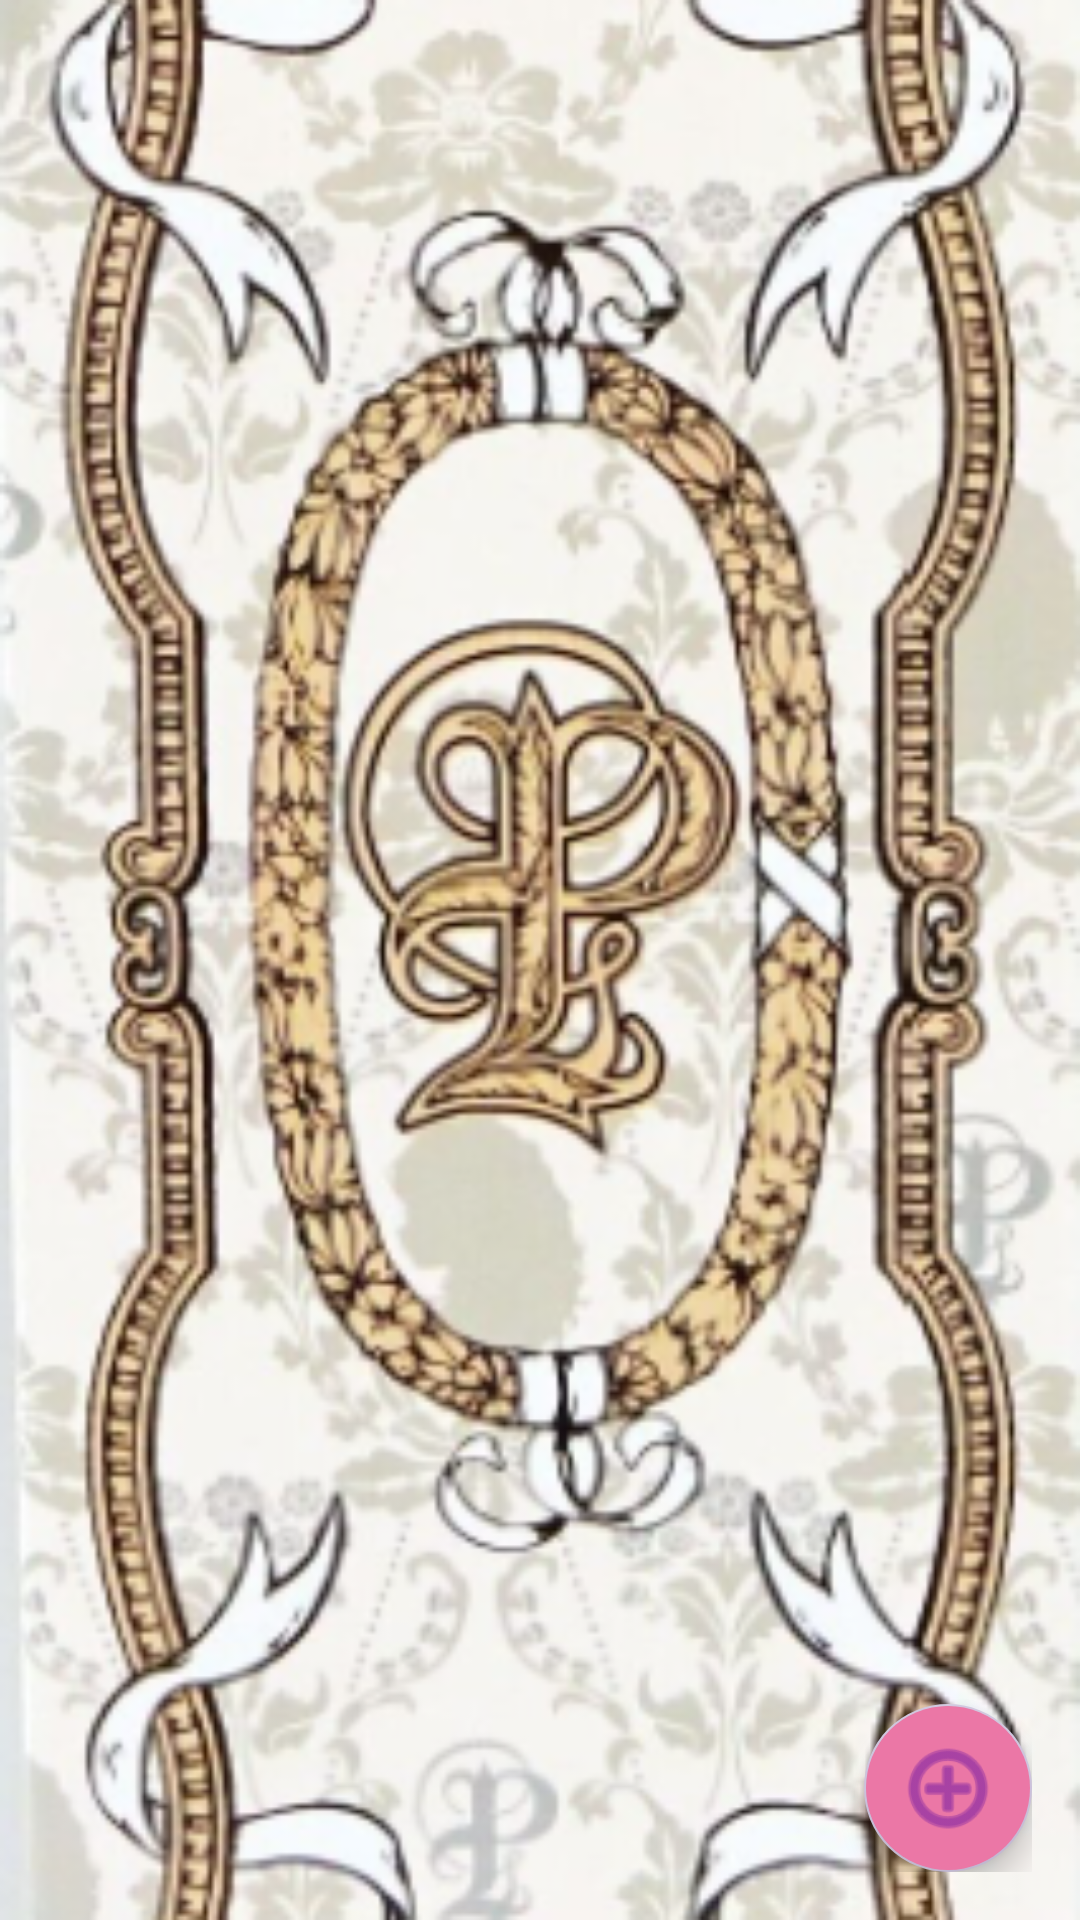

Icon click points for this 1080w x 1920h phone screenshot, format point (x, y):
Add a New Doll: point (948, 1788)
